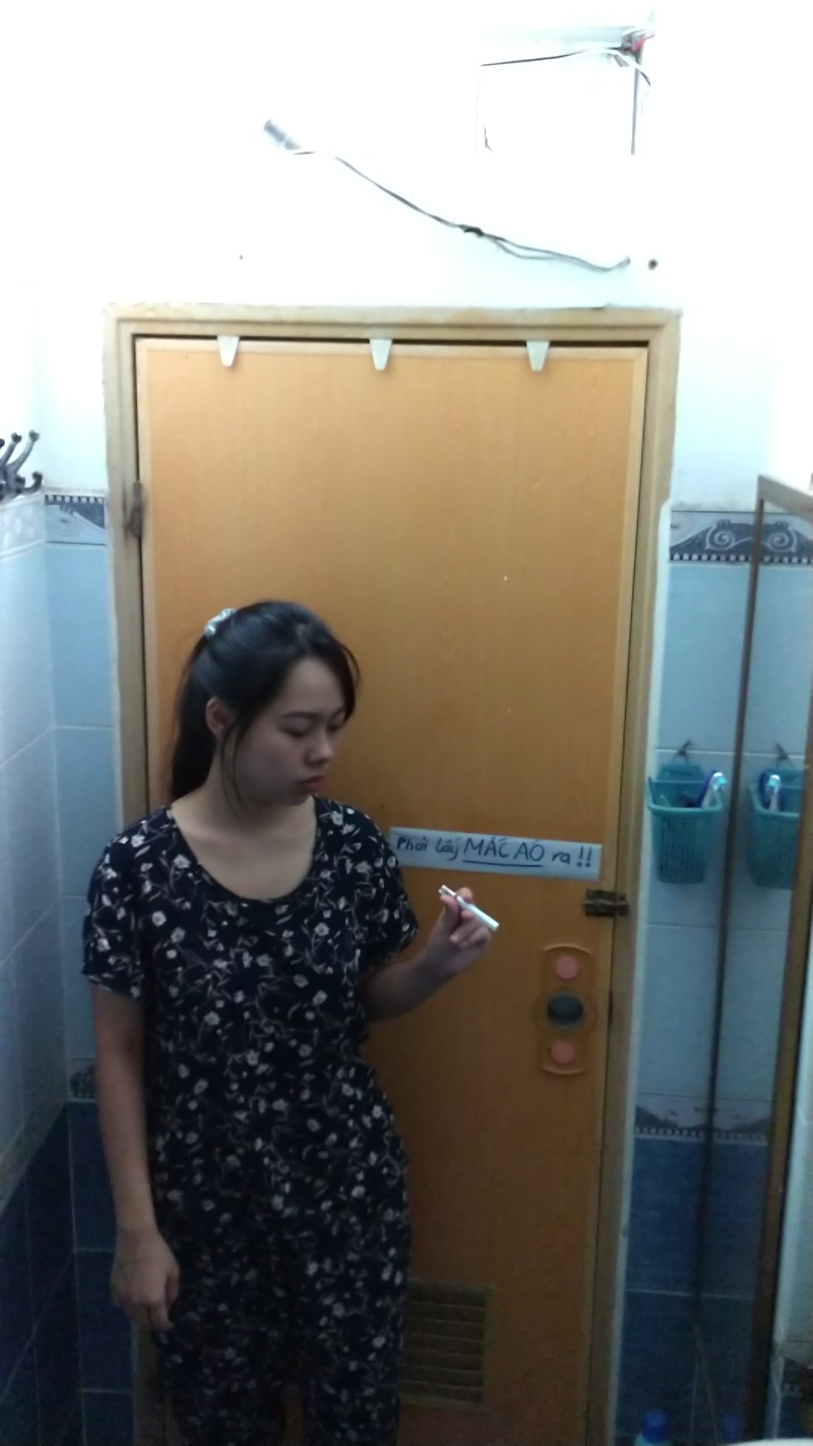cigarette: (459, 901, 505, 932)
person: (75, 571, 504, 1446)
